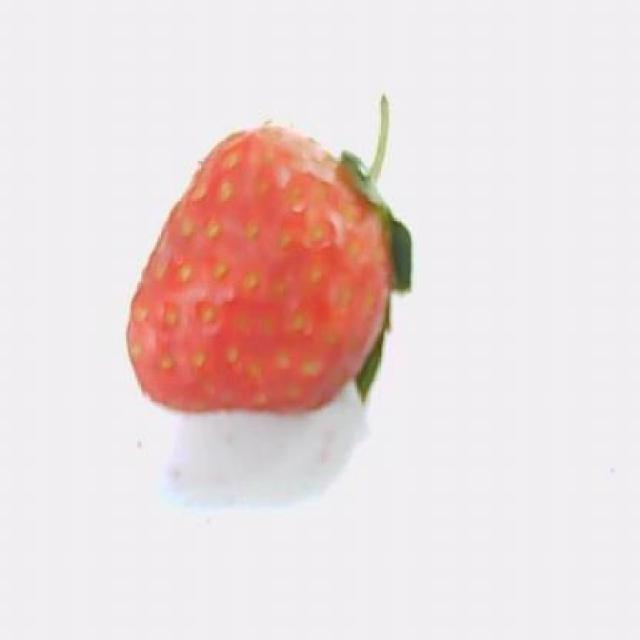strawberry: (129, 95, 410, 412)
